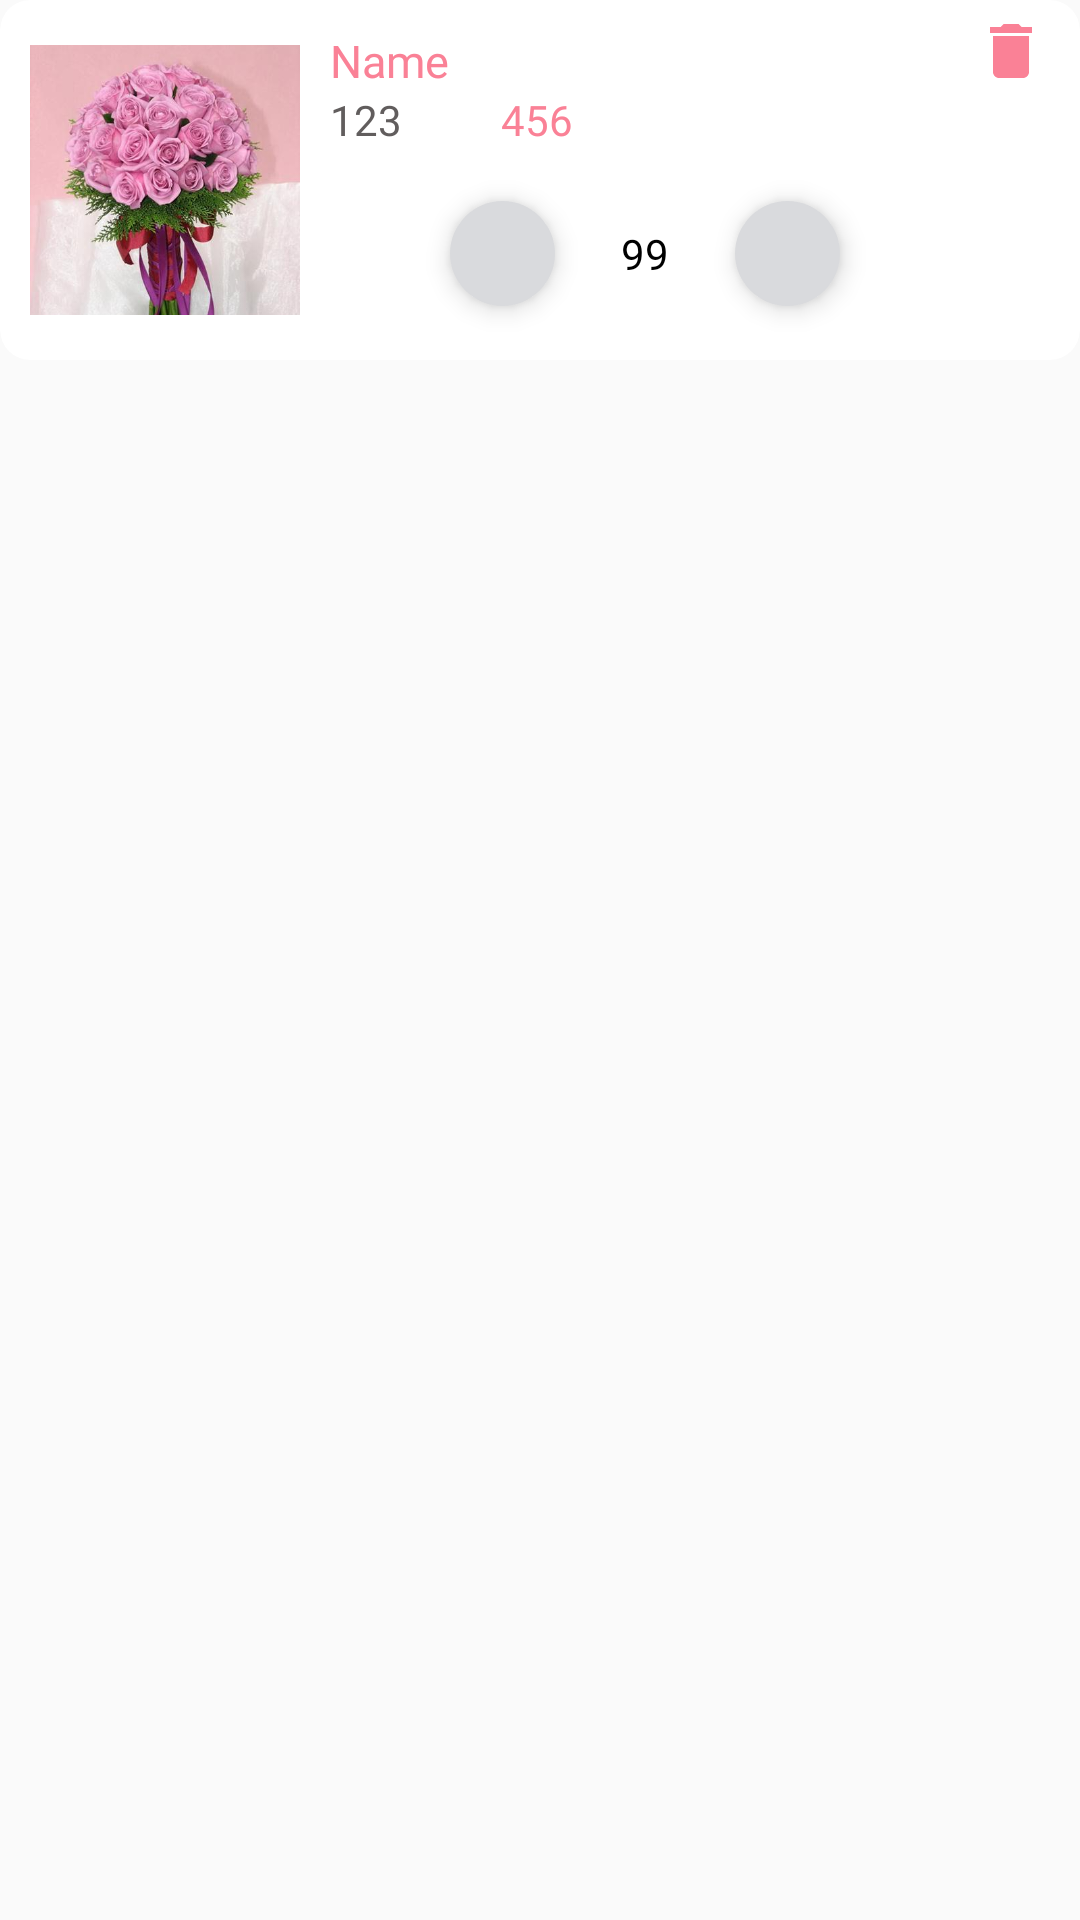

Named icons in this screenshot (1080x1920) and their bounding boxes, (x1, y1, x2, y2):
flower: (30, 45, 300, 315)
